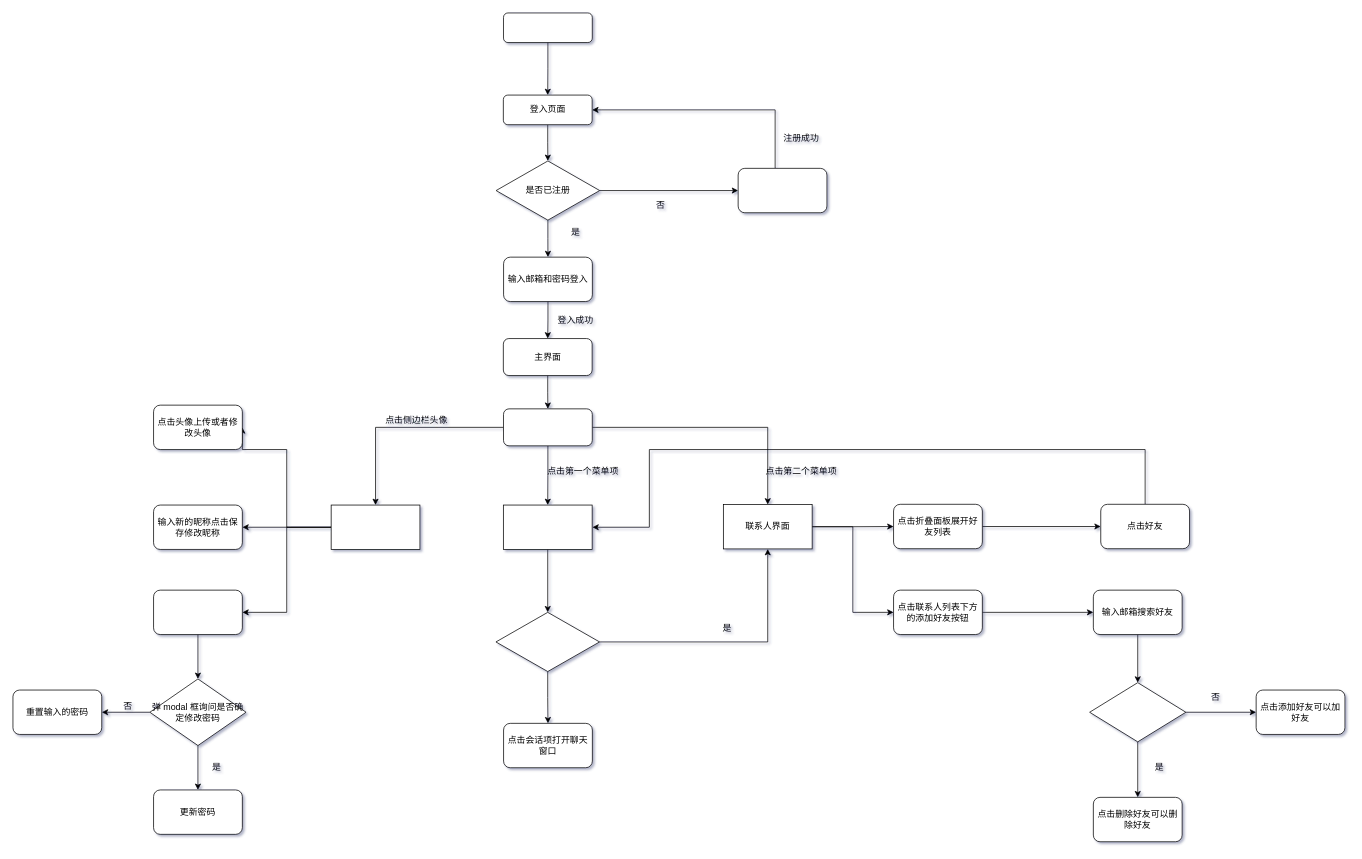
This 1362x859 diagram has some shape labels left out. Each missing label, with the box of its shape:
个人中心: (330, 504, 420, 549)
会话列表是否为空: (495, 612, 600, 672)
会话界面: (503, 504, 592, 549)
打开应用: (503, 12, 592, 43)
是否已经是好友: (1089, 682, 1186, 742)
点击注册链接跳转注册页面进行注册: (737, 168, 827, 213)
输入新的密码点击保存: (153, 589, 242, 635)
通过侧边栏: (503, 408, 592, 446)
